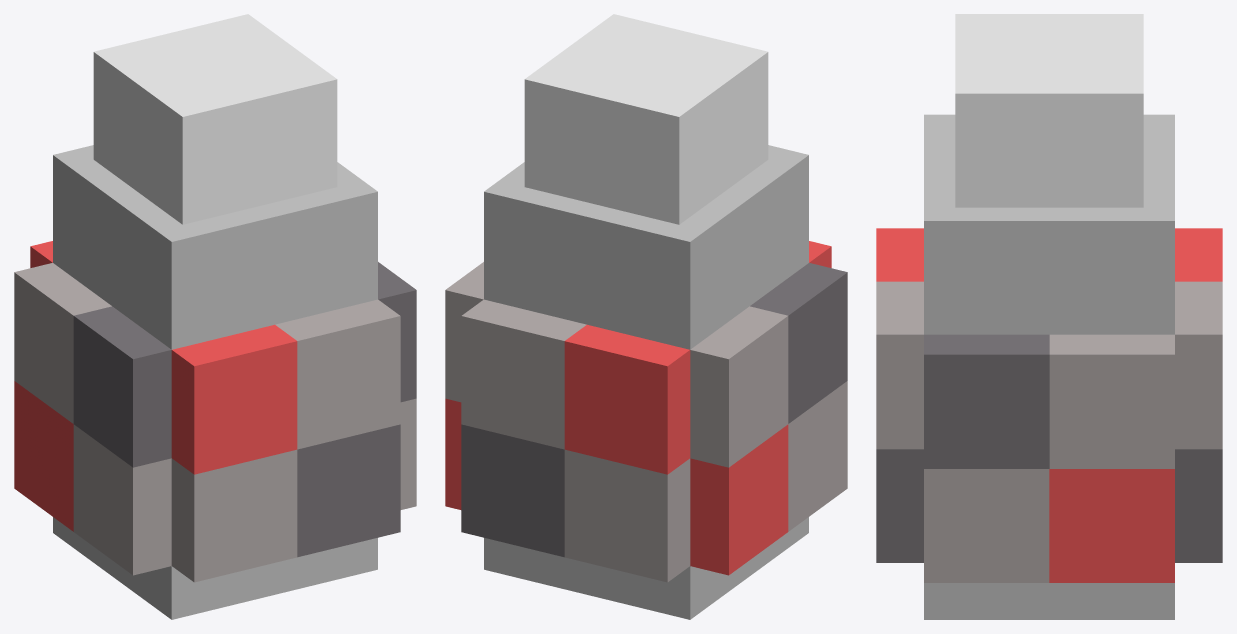
Rendered from egg_irex.obj.
3 views of the same model, side by side, from view 1: azimuth 30°, elevation 25°; view 2: azimuth 150°, elevation 25°; view 3: azimuth 270°, elevation 25° (orthographic). The views are drawn at different scales.
Visible parts, largest first — view 1: egg_irex; view 2: egg_irex; view 3: egg_irex.
Part boxes in pixels (box(x1,y1,x2,y2)): egg_irex: box(14, 14, 416, 619); egg_irex: box(445, 14, 847, 619); egg_irex: box(876, 14, 1222, 619).
Size of the model in its own units: 4.74 by 7.75 by 4.74.
